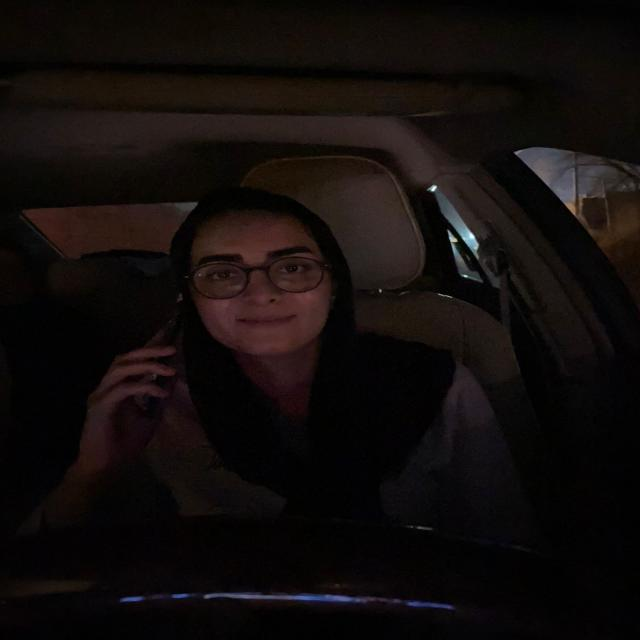person: (178, 196, 345, 365)
